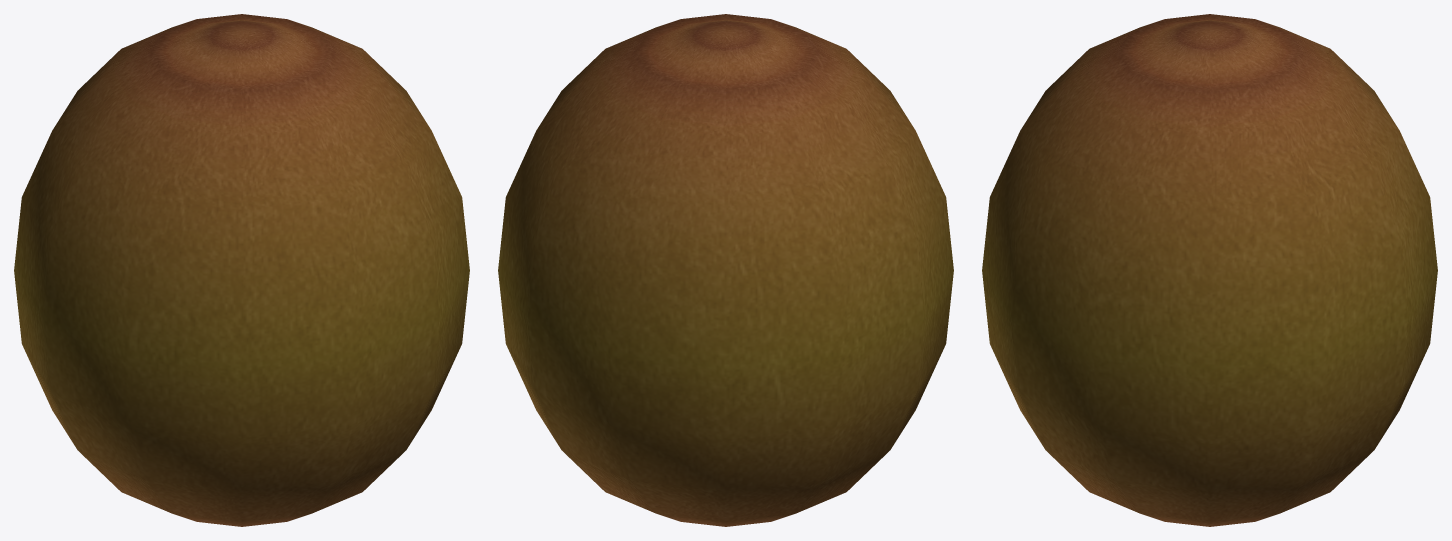
The model's file is Kiwi.fbx.
3 views of the same model, side by side, from view 1: azimuth 30°, elevation 25°; view 2: azimuth 150°, elevation 25°; view 3: azimuth 270°, elevation 25° (orthographic).
Visible parts, largest first — view 1: Kiwi_Whole; view 2: Kiwi_Whole; view 3: Kiwi_Whole.
Part boxes in pixels (left/top/right/bottom): Kiwi_Whole: left=14, top=14, right=469, bottom=526; Kiwi_Whole: left=498, top=14, right=953, bottom=526; Kiwi_Whole: left=982, top=14, right=1437, bottom=526.
Size of the model in its own units: 1.5 by 1.73 by 1.5.
